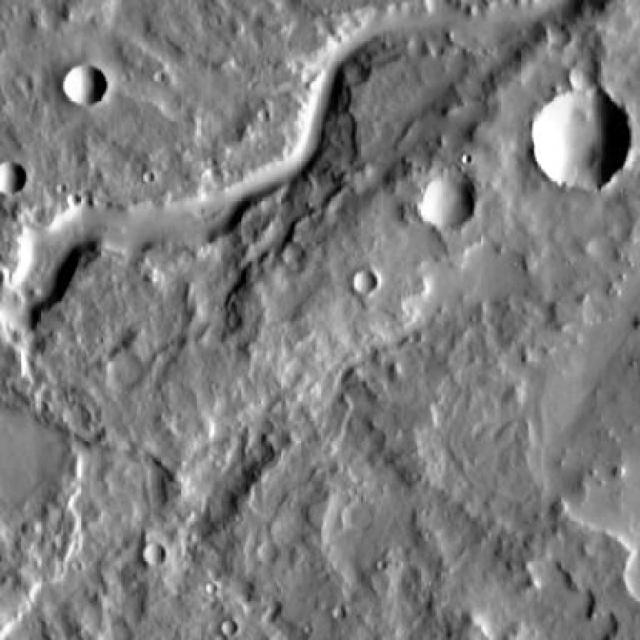crater: (526, 90, 628, 192), (414, 172, 474, 232), (64, 65, 105, 107), (0, 162, 28, 196), (574, 66, 600, 92), (542, 22, 564, 44), (142, 545, 164, 567), (350, 272, 372, 293), (256, 545, 275, 563)
